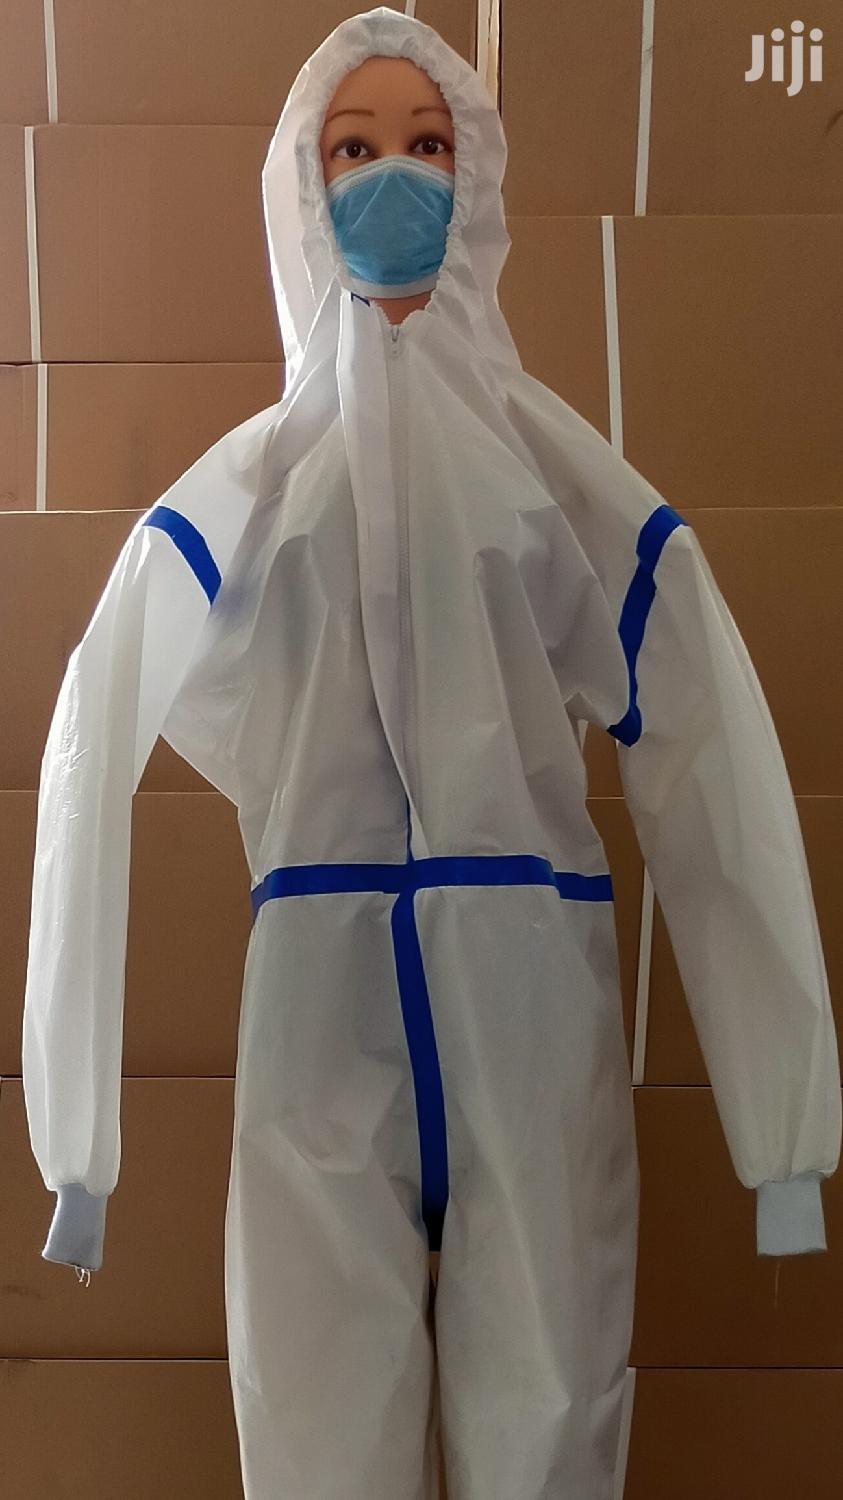Coverall: (39, 12, 835, 1500)
with_mask: (313, 105, 469, 290)
